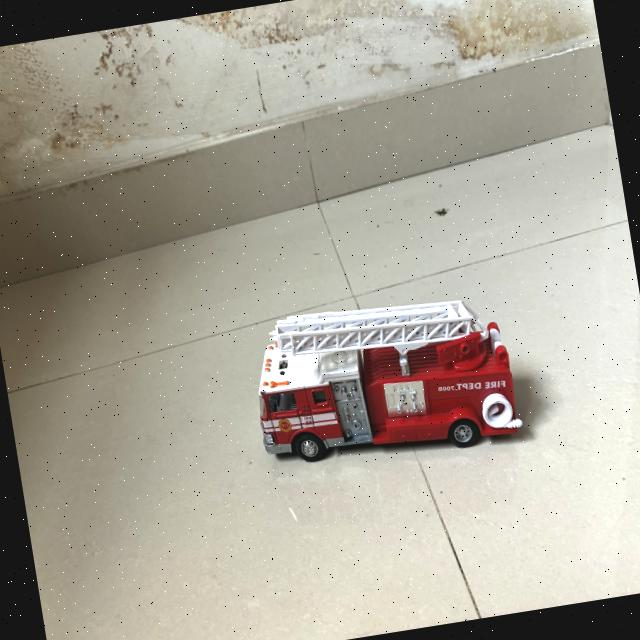fire-truck: (255, 300, 536, 461)
